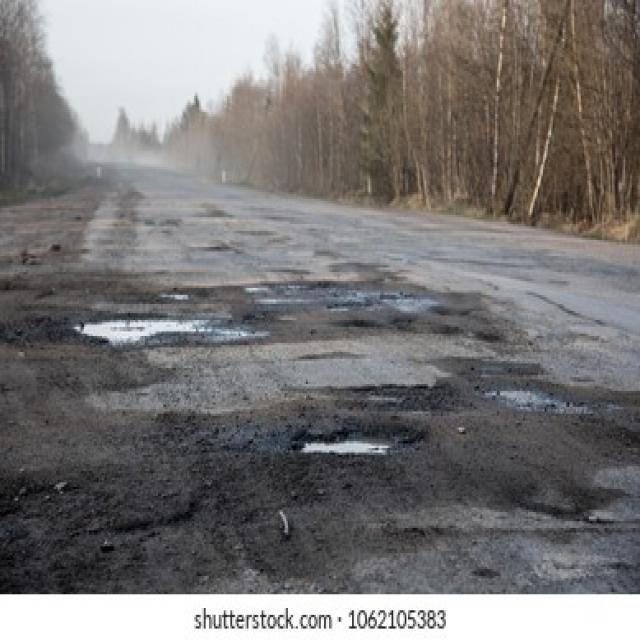Pothole: (294, 422, 414, 460), (337, 318, 377, 330), (474, 327, 498, 343)
